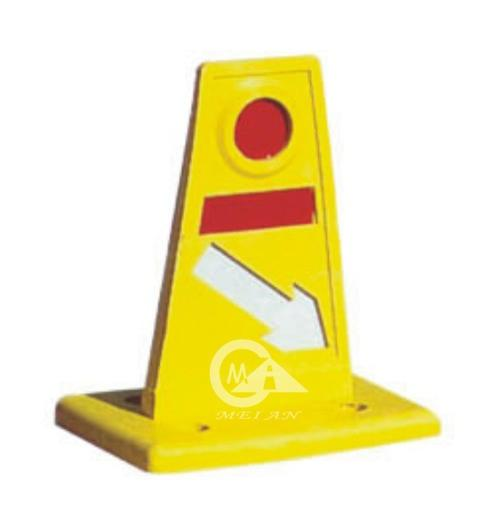cone_barrel: (93, 56, 403, 463)
